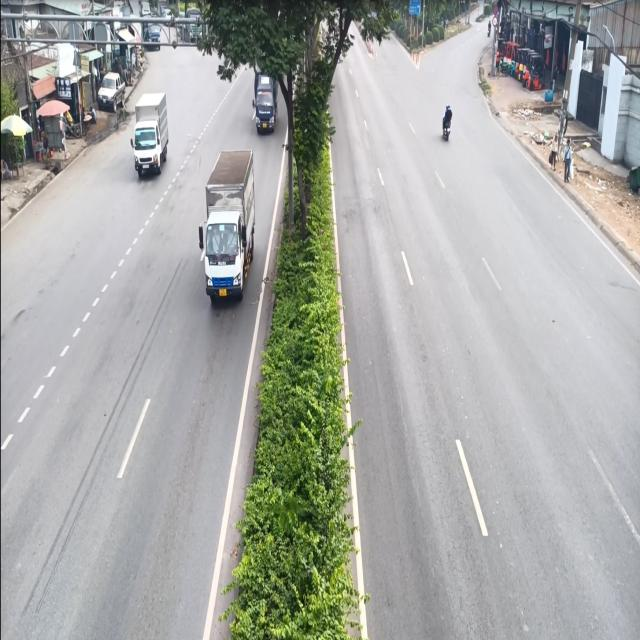motor: (438, 99, 455, 147)
truck: (201, 141, 256, 296), (132, 90, 174, 185), (252, 69, 277, 138)
